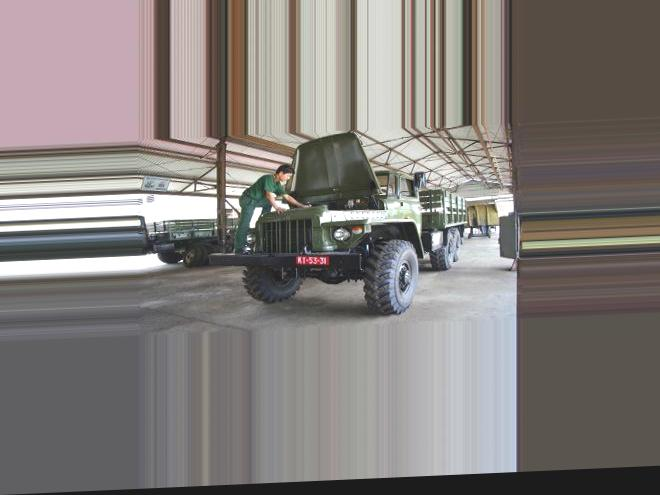License_Plate: (295, 252, 331, 270)
